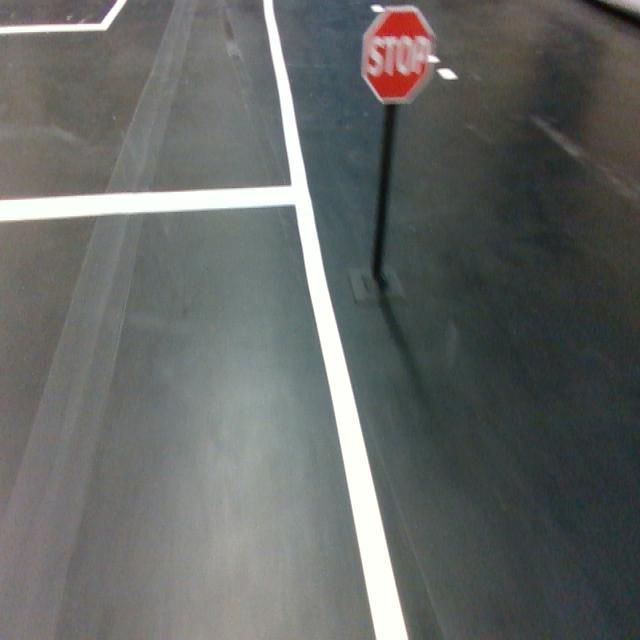stop-sign: (360, 5, 438, 106)
